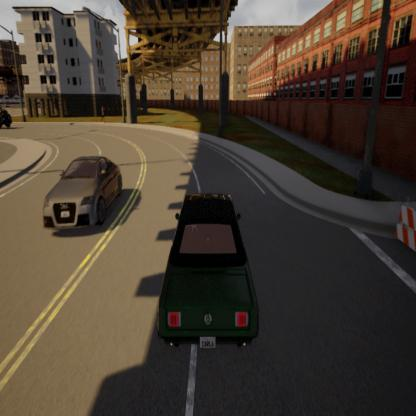Cars: (156, 165, 268, 373), (38, 141, 127, 243), (0, 105, 17, 133)
Pedestrian: (98, 105, 108, 124)
